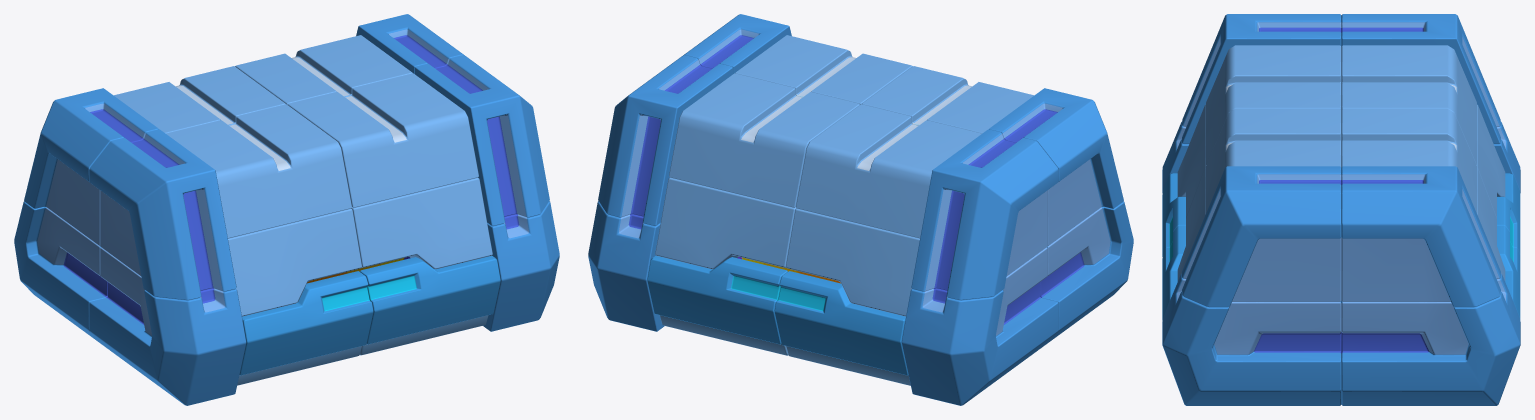
3 views of the same model, side by side, from view 1: azimuth 30°, elevation 25°; view 2: azimuth 150°, elevation 25°; view 3: azimuth 270°, elevation 25° (orthographic). The views are drawn at different scales.
Parts seen in each view (by area): view 1: Cube_L3, Cube_L1_3, Cube_L1_2, Cube_L3_3, Cube_L3_4, Cube_L3_1, Cube_L1_1, Cube_L1, Cube_L2_1, Cube_L2, Cube_L3_2, Cube_L1_5 (+5 smaller); view 2: Cube_L3_1, Cube_L1_5, Cube_L1_4, Cube_L3_2, Cube_L3_5, Cube_L3, Cube_L1_7, Cube_L1_6, Cube_L2_3, Cube_L2_2, Cube_L3_3, Cube_L1_3 (+5 smaller); view 3: Cube_L3_4, Cube_L3_5, Cube_L3_6, Cube_L3_7, Cube_L1_2, Cube_L1_4, Cube_L1_5, Cube_L1_3, Cube_L3, Cube_L3_1, Cube_L1, Cube_L1_6 (+8 smaller).
Boxes of the visible parts, <box> form: Cube_L3: <box>89,129,236,300</box>; Cube_L1_3: <box>288,73,478,207</box>; Cube_L1_2: <box>166,104,351,238</box>; Cube_L3_3: <box>89,247,246,405</box>; Cube_L3_4: <box>415,55,549,226</box>; Cube_L3_1: <box>24,88,158,245</box>; Cube_L1_1: <box>351,178,492,269</box>; Cube_L1: <box>228,209,361,316</box>; Cube_L2_1: <box>360,256,500,344</box>; Cube_L2: <box>239,271,373,375</box>; Cube_L3_2: <box>14,201,108,349</box>; Cube_L1_5: <box>235,35,412,104</box>; Cube_L3_1: <box>911,129,1058,300</box>; Cube_L1_5: <box>669,73,859,207</box>; Cube_L1_4: <box>796,104,981,238</box>; Cube_L3_2: <box>901,247,1058,405</box>; Cube_L3_5: <box>598,55,732,226</box>; Cube_L3: <box>989,88,1123,245</box>; Cube_L1_7: <box>655,178,796,269</box>; Cube_L1_6: <box>786,209,919,316</box>; Cube_L2_3: <box>647,256,787,344</box>; Cube_L2_2: <box>774,271,908,375</box>; Cube_L3_3: <box>1039,201,1133,349</box>; Cube_L1_3: <box>735,35,912,104</box>; Cube_L3_4: <box>1182,166,1341,307</box>; Cube_L3_5: <box>1341,166,1500,307</box>; Cube_L3_6: <box>1341,274,1520,405</box>; Cube_L3_7: <box>1162,274,1341,405</box>; Cube_L1_2: <box>1206,45,1341,164</box>; Cube_L1_4: <box>1341,45,1476,164</box>; Cube_L1_5: <box>1341,108,1476,213</box>; Cube_L1_3: <box>1206,108,1341,213</box>; Cube_L3: <box>1182,14,1341,144</box>; Cube_L3_1: <box>1341,14,1500,144</box>; Cube_L1: <box>1177,104,1206,218</box>; Cube_L1_6: <box>1476,104,1505,218</box>.
Bounding box in the file's own units: 5.7 × 2.89 × 4.34.
